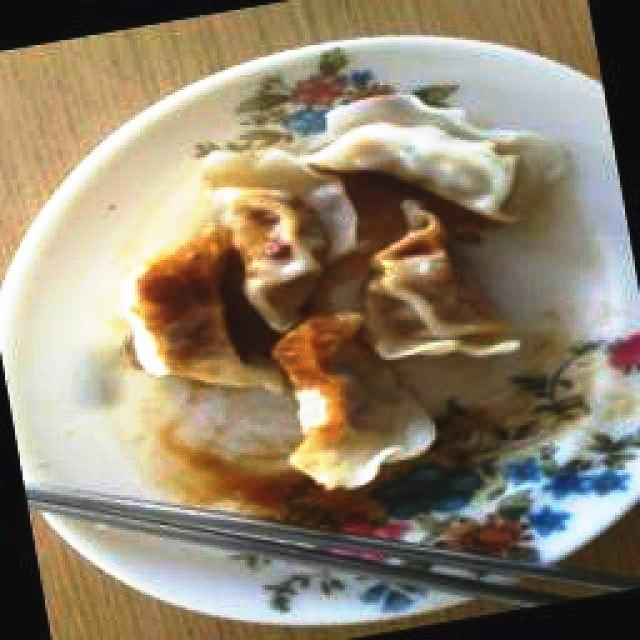fried_dumplings: (309, 93, 569, 225), (203, 150, 367, 334), (123, 224, 286, 406), (274, 313, 438, 491), (355, 201, 522, 367)
